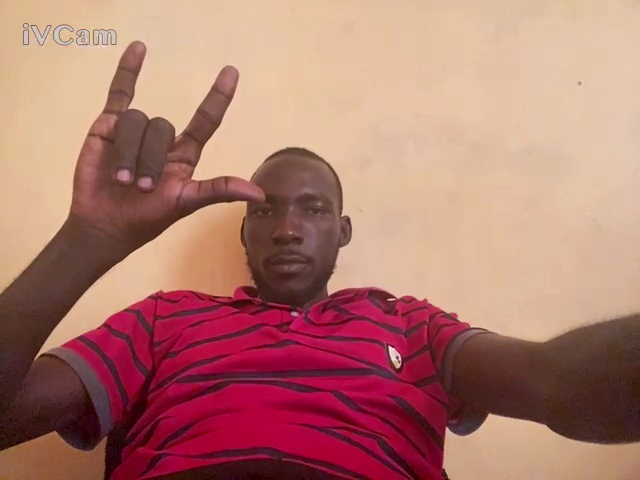Jetaime: (68, 39, 266, 254)
